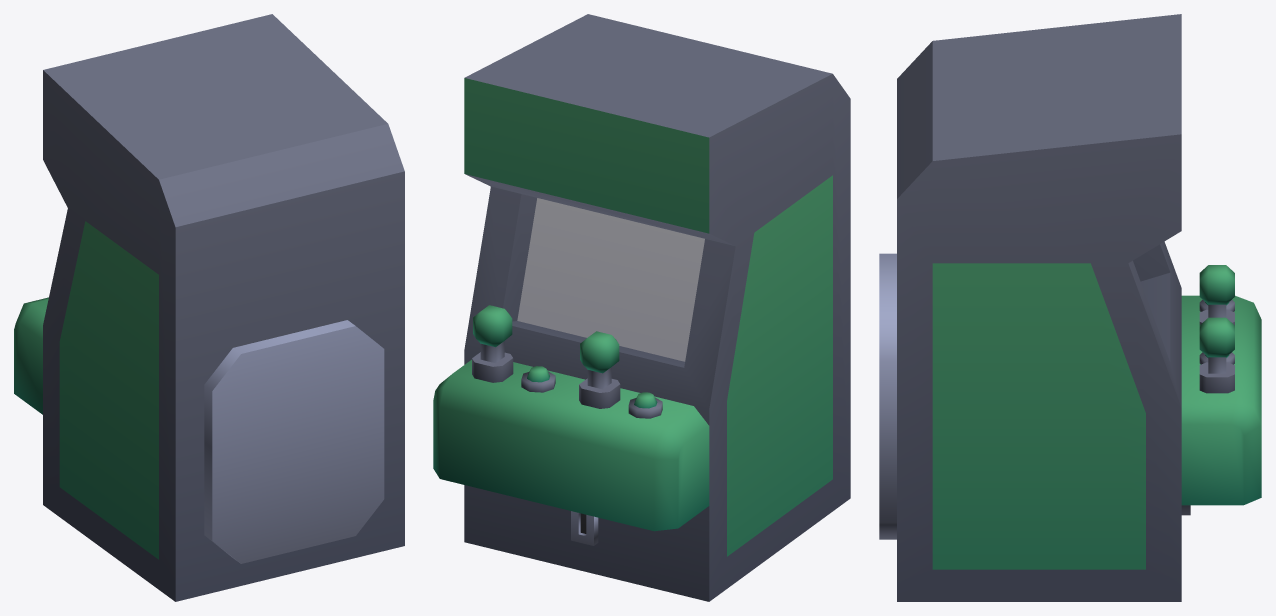
The model's file is arcade_machine.fbx.
3 views of the same model, side by side, from view 1: azimuth 30°, elevation 25°; view 2: azimuth 150°, elevation 25°; view 3: azimuth 270°, elevation 25° (orthographic). The views are drawn at different scales.
Parts seen in each view (by area): view 1: arcade-machine; view 2: arcade-machine; view 3: arcade-machine.
Part boxes in pixels (<box>): arcade-machine: <box>14,14,404,601</box>; arcade-machine: <box>433,14,850,601</box>; arcade-machine: <box>879,14,1261,601</box>.
Size of the model in its own units: 0.5517 by 1 by 0.7414.
